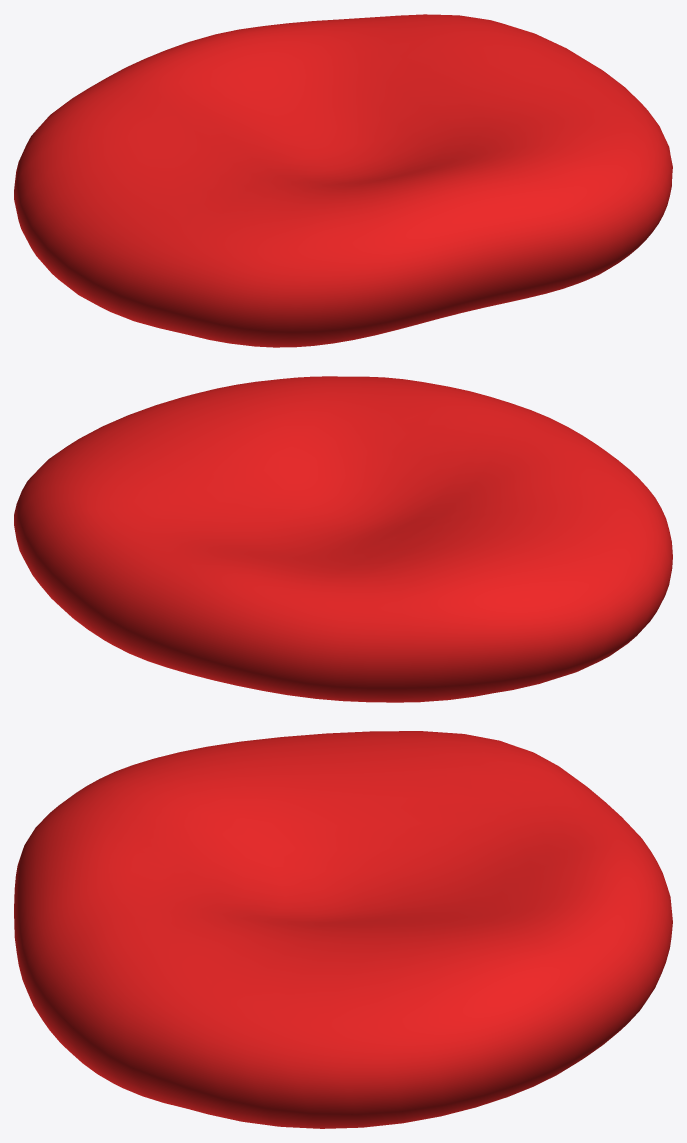
Rendered from Alyuvar03.fbx.
The picture shows the model from 3 angles, top to bottom: view 1: azimuth 30°, elevation 25°; view 2: azimuth 150°, elevation 25°; view 3: azimuth 270°, elevation 25°; orthographic projection. The views are drawn at different scales.
Parts seen in each view (by area): view 1: Alyuvar03; view 2: Alyuvar03; view 3: Alyuvar03.
Boxes of the visible parts, x1,y1,x2,y2 form: Alyuvar03: [14, 14, 672, 347]; Alyuvar03: [14, 376, 672, 702]; Alyuvar03: [14, 731, 672, 1128].
Size of the model in its own units: 196 by 43.89 by 167.
